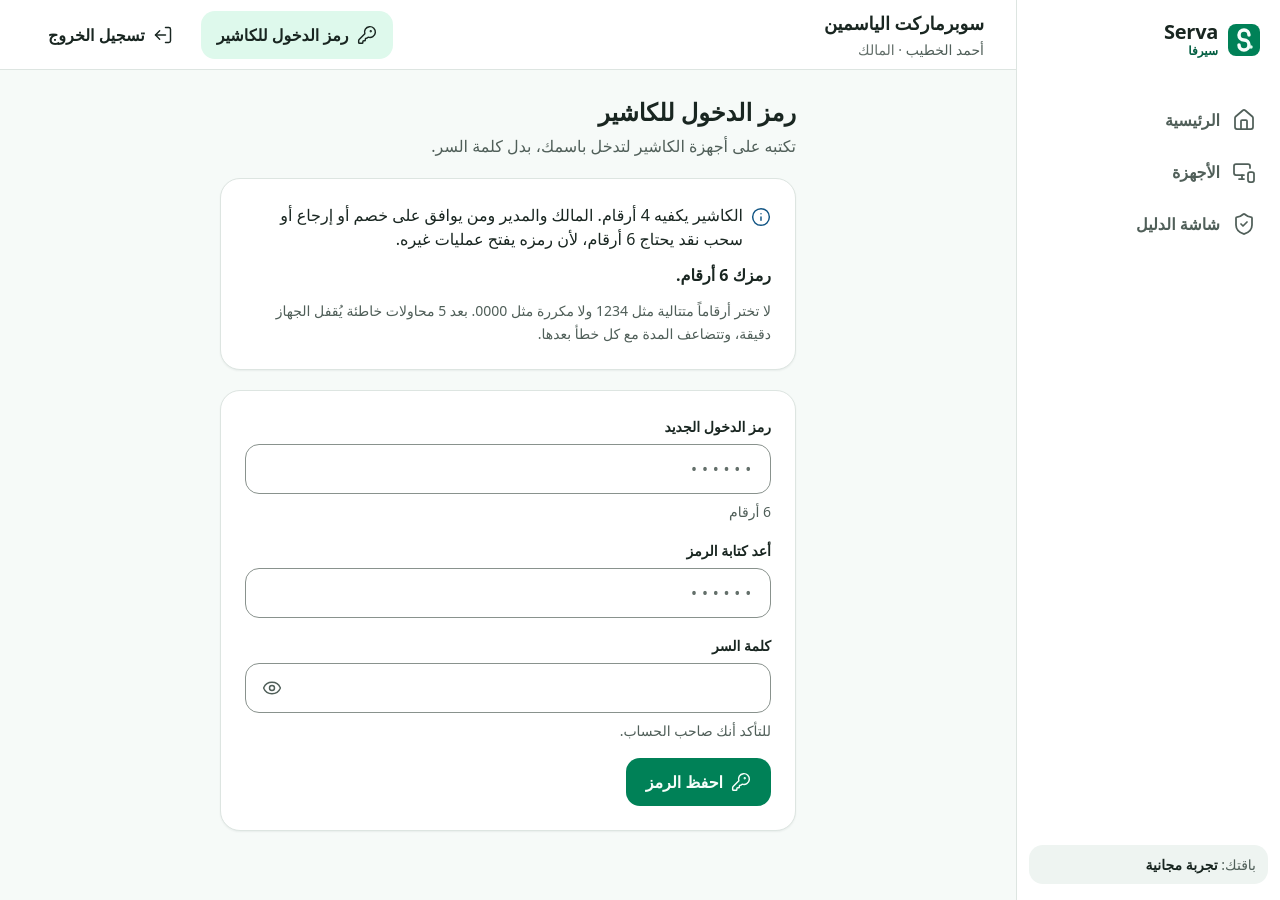
Scenario: «رمز الدخول للكاشير» › asks an owner for 6 digits
This screenshot has width=1280, height=900.
In the password field labelled "رمز الدخول الجديد": {"x": 508, "y": 469} x1=246 y1=445 x2=770 y2=493, type "2580"
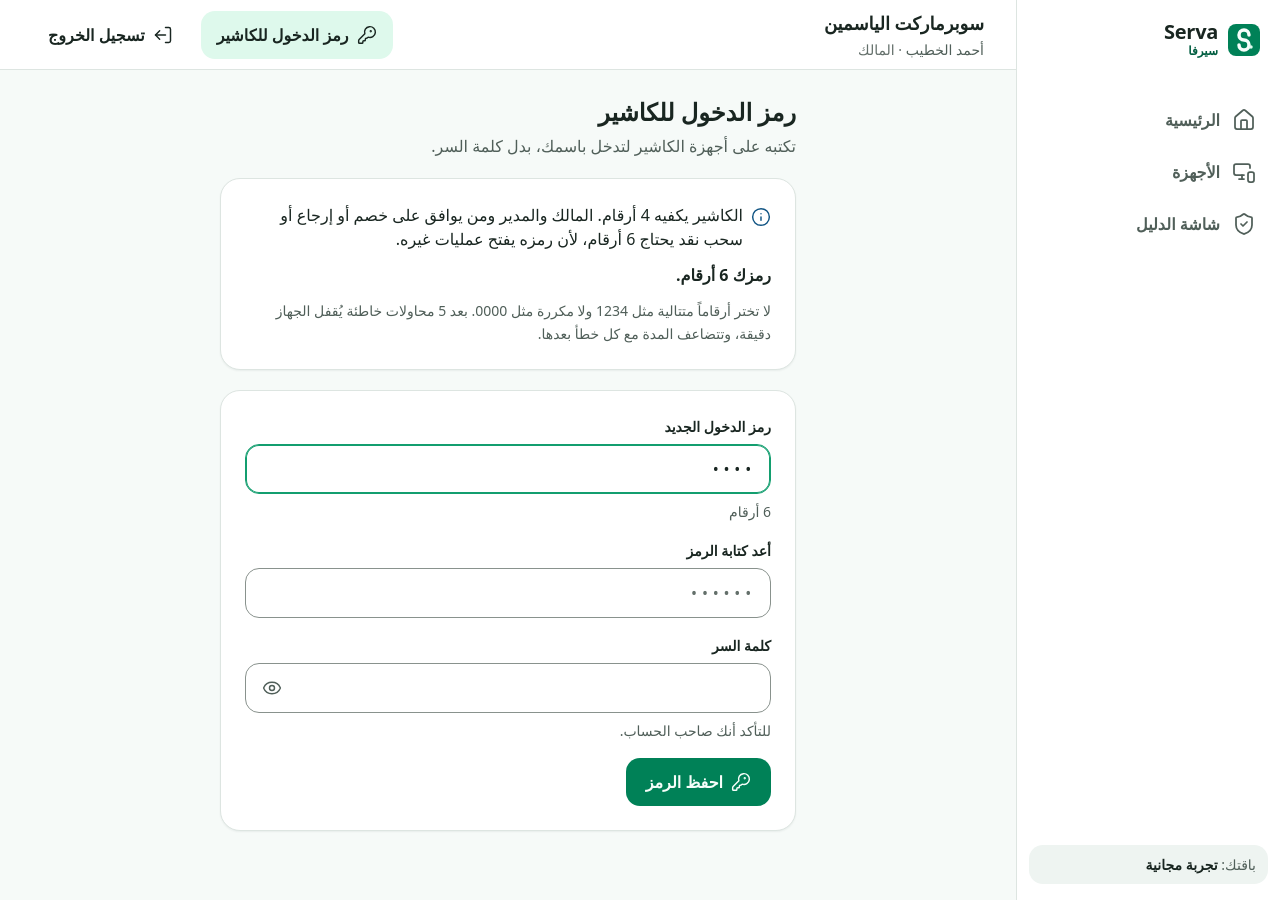
In the password field labelled "أعد كتابة الرمز": {"x": 508, "y": 593} x1=246 y1=569 x2=770 y2=617, type "2580"
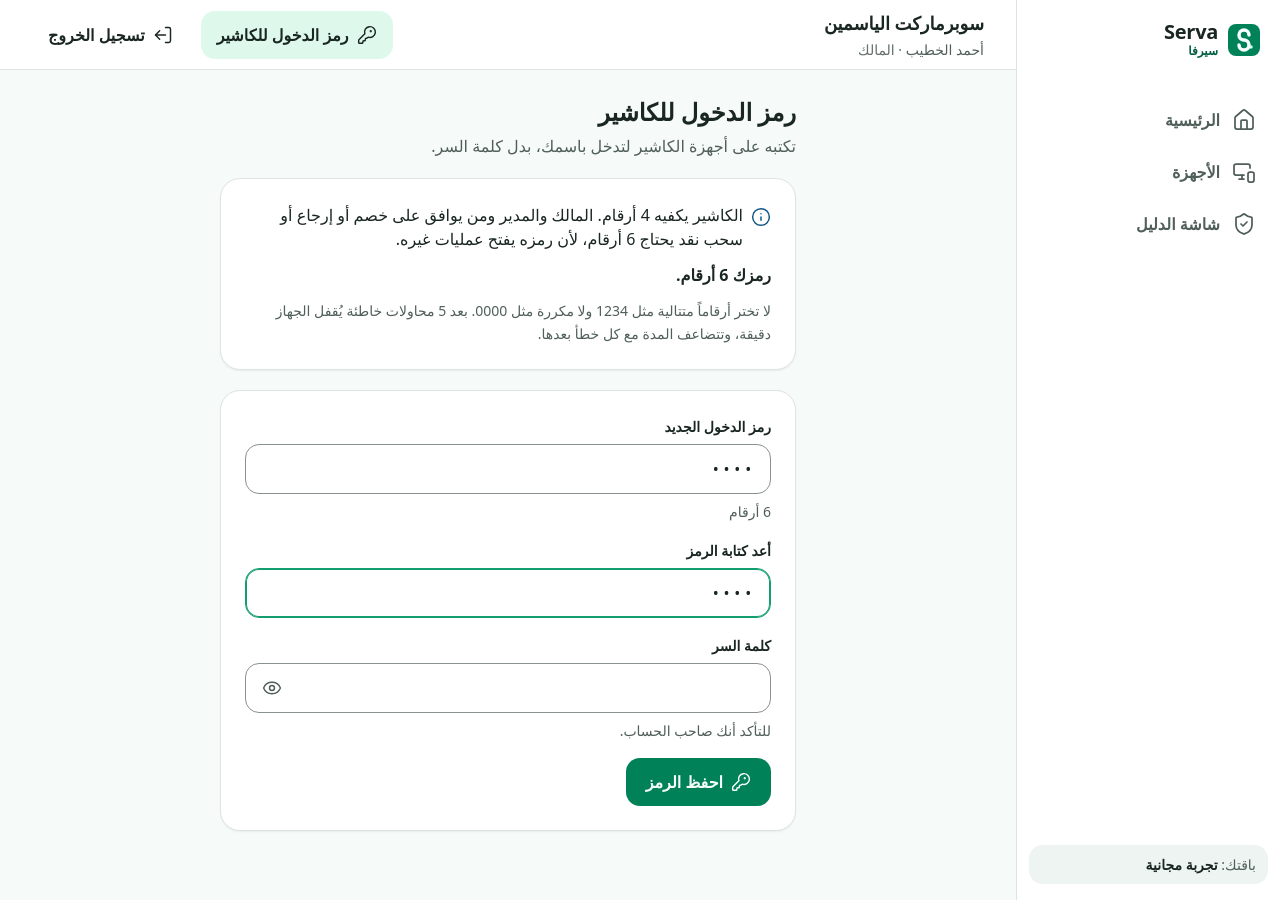
In the password field labelled "كلمة السر": {"x": 532, "y": 688} x1=294 y1=664 x2=770 y2=712, type "sesame-1"
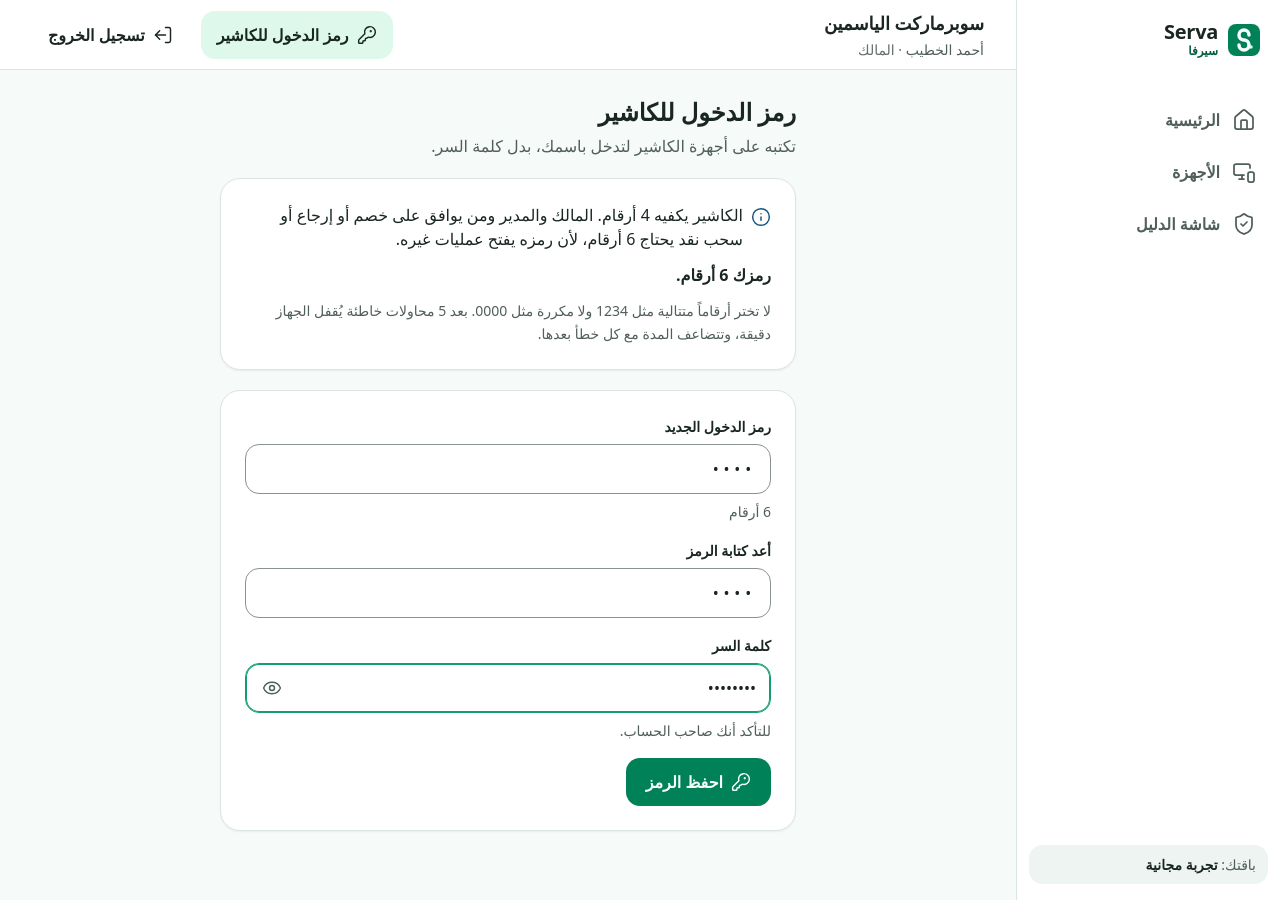
Click the button "احفظ الرمز": {"x": 698, "y": 782} x1=626 y1=758 x2=771 y2=806
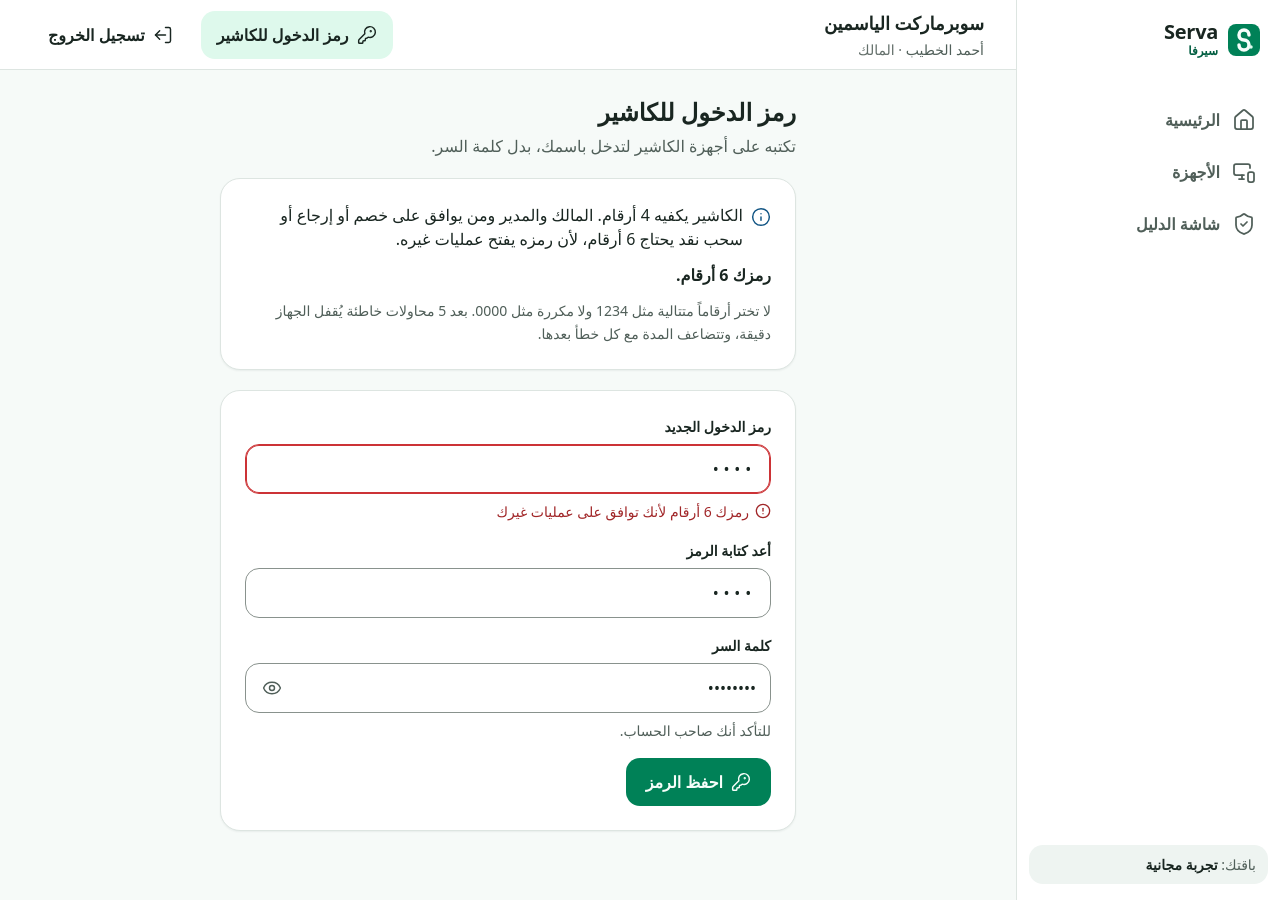
Now the text "رمزك 6 أرقام لأنك توافق على عمليات غيرك" is shown, box x1=496 y1=500 x2=749 y2=523
